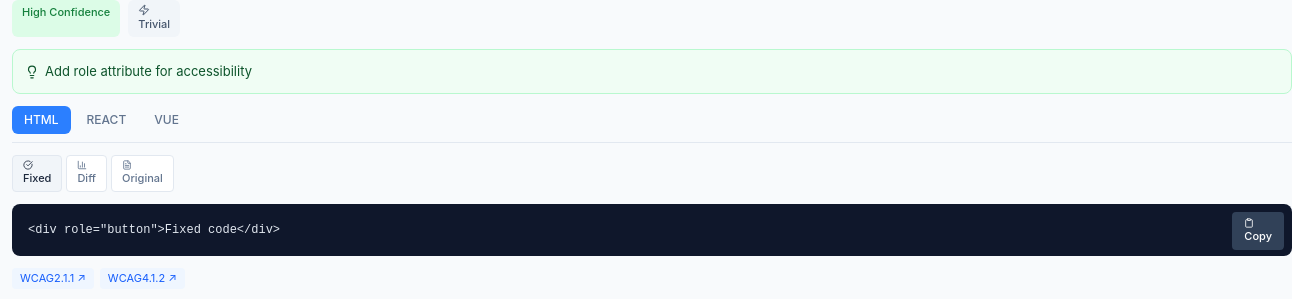
Test: findings/FixCodePreview › switches to original view when original button is clicked
Click the button "Original": click(142, 173) [111,155,174,192]
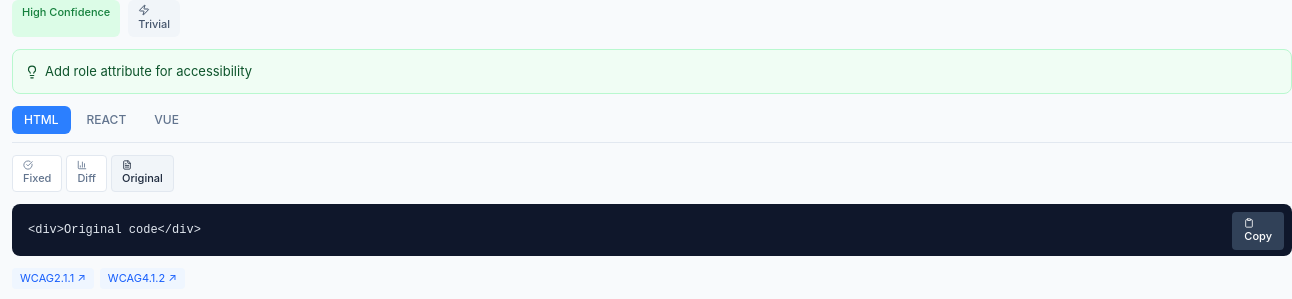
Result: the text "<div>Original code</div>" is shown at [28,222,201,236]
